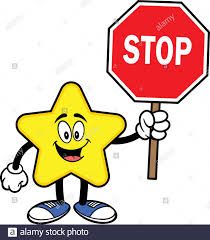SS: (106, 3, 208, 103)
